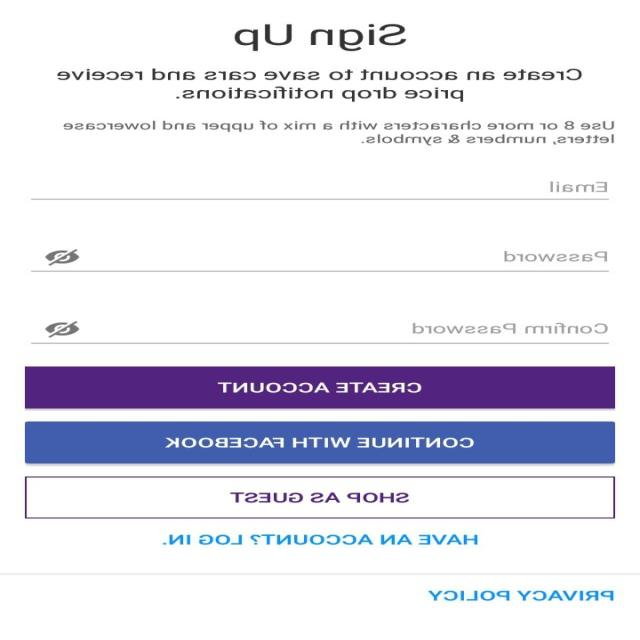EditText: (32, 248, 610, 272), (32, 321, 610, 344), (32, 181, 610, 200)
Icon: (45, 249, 81, 266), (45, 321, 81, 338)
Text: (58, 68, 582, 102), (63, 120, 615, 146), (235, 24, 408, 52), (162, 534, 478, 544), (412, 322, 608, 333), (428, 590, 614, 600), (503, 250, 607, 262), (550, 181, 608, 192)
TextButton: (25, 476, 616, 518), (25, 421, 616, 463), (26, 366, 616, 408)
